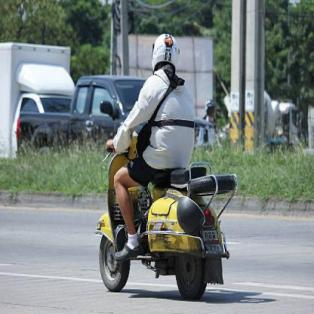Motocicleta: (89, 101, 234, 300)
